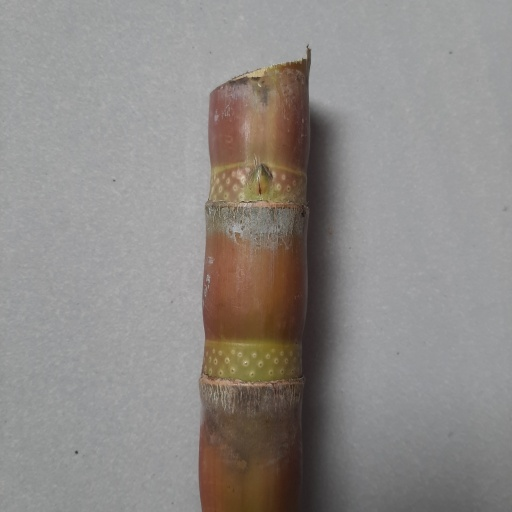Bud: (248, 164, 272, 198)
